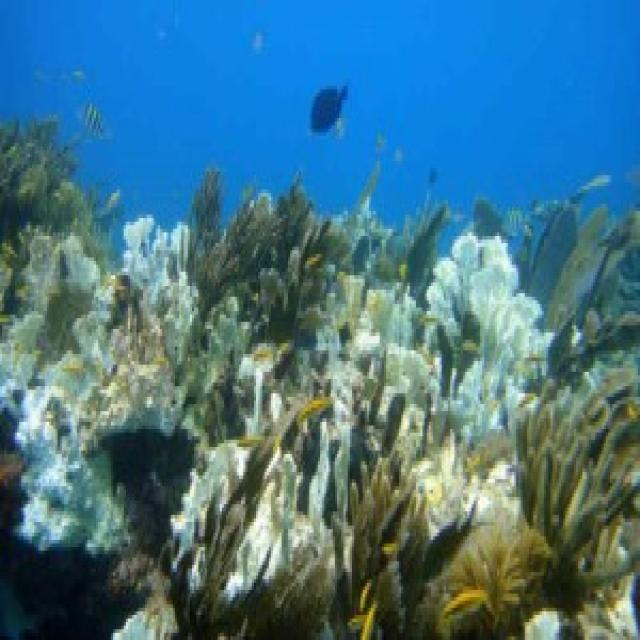Bleached: (1, 223, 187, 434), (428, 237, 547, 437), (16, 387, 127, 552)
